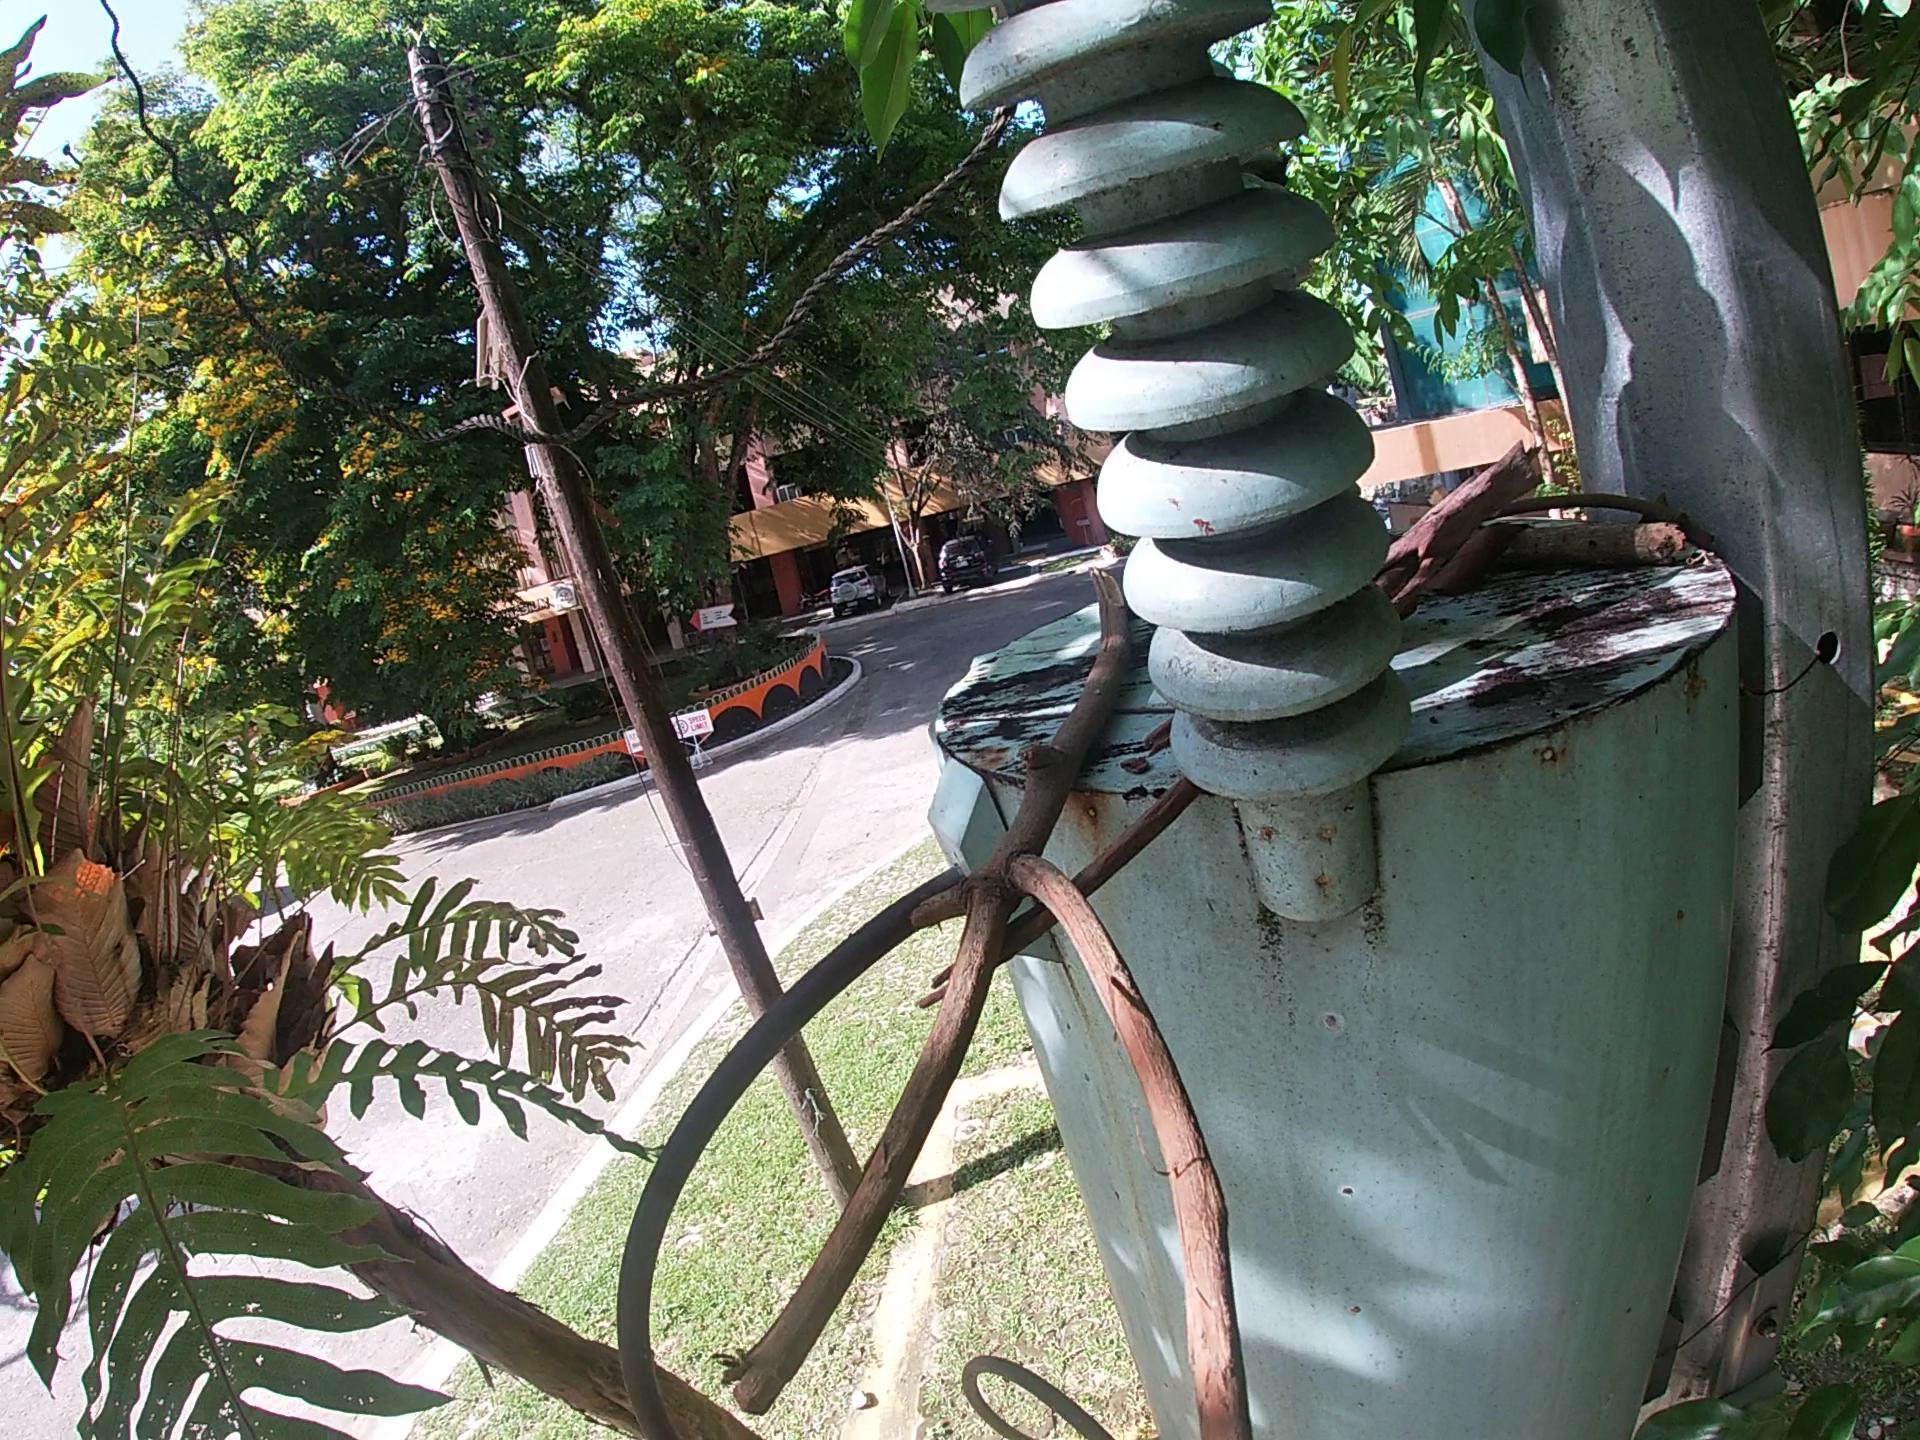leaf: (1448, 526, 1531, 601)
tree branch: (724, 588, 1318, 1438), (928, 784, 1206, 1004), (1373, 445, 1562, 611), (1476, 517, 1699, 578), (1503, 490, 1681, 523), (942, 697, 1067, 734), (1108, 708, 1176, 723), (1138, 728, 1172, 756)
